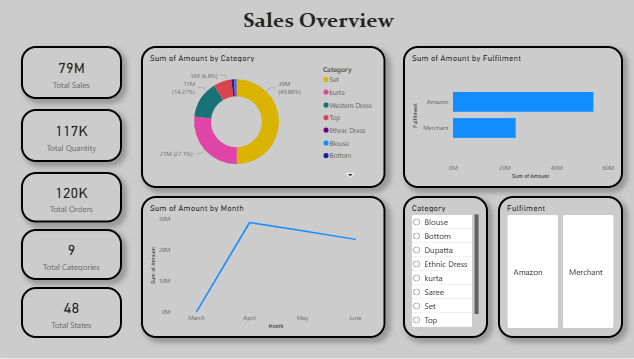

Layout of this report page (visuals, bound fields, positions):
{"tool":"powerbi","page":{"name":"Sales Overview","canvas":[1280,720],"ordinal":0},"visuals":[{"type":"card","fields":{"Values":["Amazon Sale Report.Total Sales"]},"box":[47,95.7,201.6,105.8],"z":0},{"type":"card","fields":{"Values":["Amazon Sale Report.Total Quantity"]},"box":[47,221.7,201.6,105.8],"z":1000},{"type":"card","fields":{"Values":["Amazon Sale Report.Total Orders"]},"box":[47,347.7,201.6,100.8],"z":2000},{"type":"card","fields":{"Values":["Amazon Sale Report.Total Categories"]},"box":[47,461.9,201.6,102.5],"z":3000},{"type":"card","fields":{"Values":["Amazon Sale Report.Total States"]},"box":[47,577.8,201.6,102.5],"z":4000},{"type":"donutChart","fields":{"Category":["Amazon Sale Report.Category"],"Y":["Sum(Amazon Sale Report.Amount)"]},"box":[287.2,95.7,488.8,283.9],"z":5000},{"type":"lineChart","fields":{"Category":["Amazon Sale Report.Date.Variation.Date Hierarchy.Month"],"Y":["Sum(Amazon Sale Report.Amount)"]},"box":[287.2,396.4,488.8,283.9],"z":6000},{"type":"clusteredBarChart","fields":{"Category":["Amazon Sale Report.Fulfilment"],"Y":["Sum(Amazon Sale Report.Amount)"]},"box":[811.3,95.7,440.1,283.9],"z":6001},{"type":"listSlicer","fields":{"Values":["Amazon Sale Report.Category"]},"box":[811.3,396.4,169.7,283.9],"z":6002},{"type":"advancedSlicerVisual","fields":{"Values":["Amazon Sale Report.Fulfilment"]},"box":[1001.2,396.4,250.3,283.9],"z":6003},{"type":"textbox","box":[100.8,11.8,1086.8,70.6],"z":6004}]}

Visuals, with their boxes in screenshot pixels (x1, y1, x2, y2), scaled from the page's 1280x720 canvas onto the 634x359 screenshot:
card - Amazon Sale Report.Total Sales: <bbox>23, 48, 123, 100</bbox>
card - Amazon Sale Report.Total Quantity: <bbox>23, 111, 123, 163</bbox>
card - Amazon Sale Report.Total Orders: <bbox>23, 173, 123, 224</bbox>
card - Amazon Sale Report.Total Categories: <bbox>23, 230, 123, 281</bbox>
card - Amazon Sale Report.Total States: <bbox>23, 288, 123, 339</bbox>
donutChart - Amazon Sale Report.Category x Sum(Amazon Sale Report.Amount): <bbox>142, 48, 384, 189</bbox>
lineChart - Amazon Sale Report.Date.Variation.Date Hierarchy.Month x Sum(Amazon Sale Report.Amount): <bbox>142, 198, 384, 339</bbox>
clusteredBarChart - Amazon Sale Report.Fulfilment x Sum(Amazon Sale Report.Amount): <bbox>402, 48, 620, 189</bbox>
listSlicer - Amazon Sale Report.Category: <bbox>402, 198, 486, 339</bbox>
advancedSlicerVisual - Amazon Sale Report.Fulfilment: <bbox>496, 198, 620, 339</bbox>
textbox: <bbox>50, 6, 588, 41</bbox>
